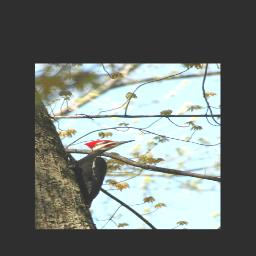Woodpecker: (67, 138, 139, 210)
